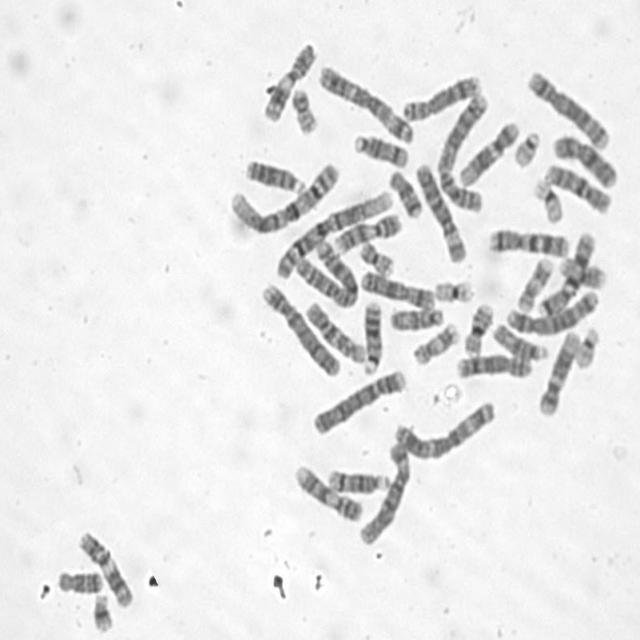A1: (272, 188, 394, 280), (225, 158, 342, 238)
A2: (433, 90, 491, 213), (290, 237, 360, 309)
A3: (315, 61, 415, 145), (389, 396, 498, 462)
B4: (258, 279, 342, 380), (308, 364, 408, 438)
B5: (525, 67, 611, 152), (503, 285, 601, 338)
C10: (301, 298, 366, 365), (541, 160, 613, 216)
C11: (75, 528, 135, 610), (260, 39, 318, 123)
C12: (456, 116, 521, 186), (536, 327, 580, 417)
C6: (355, 438, 413, 546), (413, 160, 468, 267)
C7: (534, 227, 597, 320), (484, 225, 570, 258)
C8: (399, 70, 483, 124), (453, 350, 535, 381)
C9: (291, 460, 364, 526), (331, 210, 403, 256)
D13: (241, 154, 307, 196), (359, 297, 384, 376)
D14: (349, 130, 409, 170), (325, 466, 391, 496)
D15: (489, 320, 550, 363), (388, 304, 445, 333)
E16: (459, 299, 496, 357), (556, 253, 606, 290)
E17: (514, 253, 555, 314), (410, 319, 462, 367)
E18: (386, 166, 424, 220), (54, 566, 104, 594)
F19: (530, 177, 565, 226), (432, 276, 476, 305)
F20: (356, 237, 396, 279), (288, 85, 320, 136)
G21: (90, 590, 114, 633)
G22: (572, 323, 602, 369), (511, 128, 542, 170)
X: (551, 130, 620, 190), (358, 266, 436, 312)
